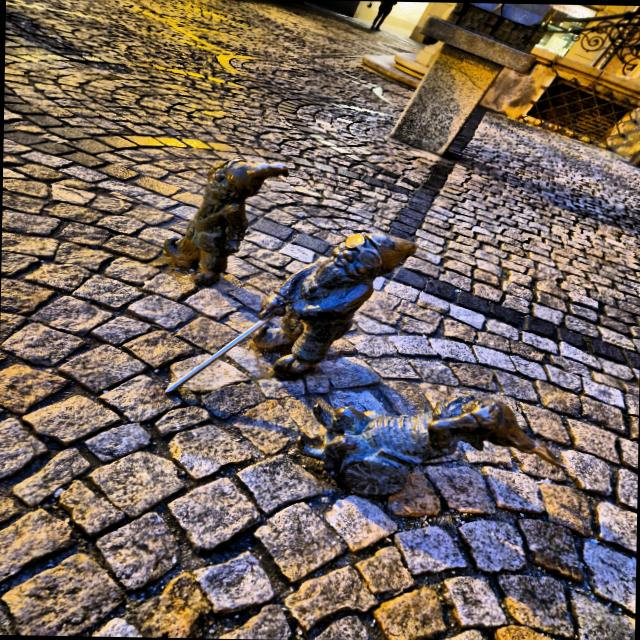Gluchak: (163, 158, 289, 288)
Slepak: (165, 233, 419, 393)
W-Skers: (296, 390, 568, 497)
